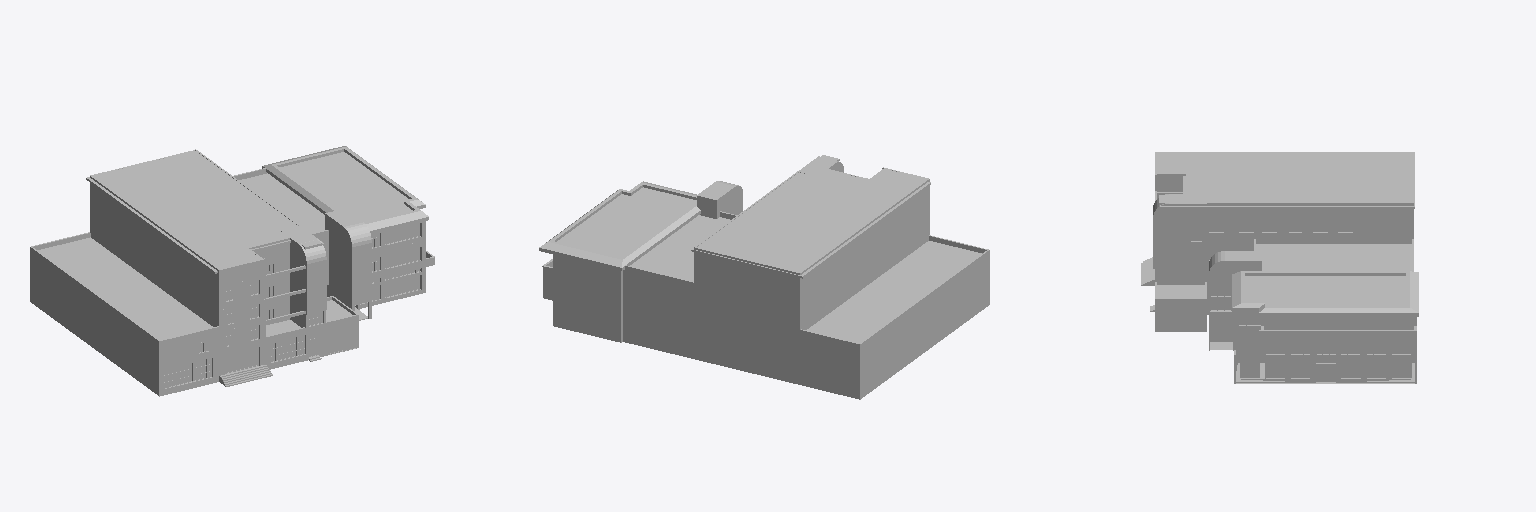
The model's file is house3.obj.
The picture shows the model from 3 angles: view 1: azimuth 30°, elevation 25°; view 2: azimuth 150°, elevation 25°; view 3: azimuth 270°, elevation 25°; orthographic projection.
Visible parts, largest first — view 1: Line4499, Line09, Line21, Rectangle3837, Rectangle223, Rectangle149, Rectangle3809, Line08, Rectangle09, Rectangle221, Rectangle03, Rectangle64 (+12 smaller); view 2: Line09, Line4499, Line21, Rectangle3837, Rectangle222, Rectangle146, Rectangle223, Rectangle3835, Line08, Rectangle221, Line14, Rectangle09 (+1 smaller); view 3: Line4499, Rectangle101, Rectangle223, Line08, Rectangle123, Rectangle61, Rectangle221, Rectangle49, Rectangle46, Rectangle148, Line14, Rectangle207 (+3 smaller).
Part boxes in pixels (x1,y1,x2,y2): Line4499: (93,151,321,268); Line09: (90,150,218,326); Line21: (31,247,159,395); Rectangle3837: (37,237,212,339); Rectangle223: (280,152,412,221); Rectangle149: (218,258,265,375); Rectangle3809: (159,326,218,396); Line08: (239,173,324,233); Rectangle09: (325,213,353,310); Rectangle221: (263,146,428,230); Rectangle03: (360,222,425,308); Rectangle64: (248,237,289,324); Line09: (696,179,928,384); Line4499: (697,155,926,271); Line21: (860,250,988,398); Rectangle3837: (806,241,981,343); Rectangle222: (623,265,693,358); Rectangle146: (543,255,618,341); Rectangle223: (557,187,696,256); Rectangle3835: (800,329,860,399); Line08: (630,215,730,281); Rectangle221: (539,181,700,267); Line14: (691,156,930,278); Rectangle09: (715,185,742,218); Line4499: (1157,153,1411,204); Rectangle101: (1207,203,1413,314); Rectangle223: (1245,276,1405,305); Line08: (1256,244,1411,270); Rectangle123: (1153,204,1206,268); Rectangle61: (1236,331,1414,362); Rectangle221: (1232,271,1418,312); Rectangle49: (1234,312,1414,383); Rectangle46: (1209,260,1261,333); Rectangle148: (1285,317,1414,329); Line14: (1160,152,1414,208); Rectangle207: (1157,298,1204,331).
Size of the model in its own units: 6035 by 2031 by 4582.